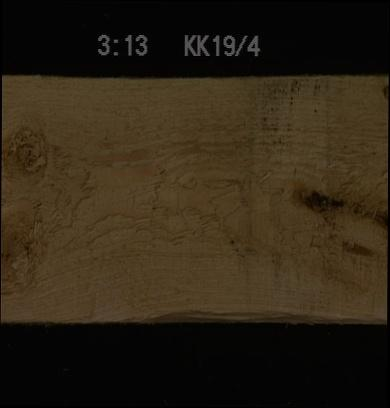dry_knot: (381, 82, 388, 101)
sound_knot: (0, 193, 57, 300), (1, 123, 49, 181)
wave: (118, 290, 387, 324)
